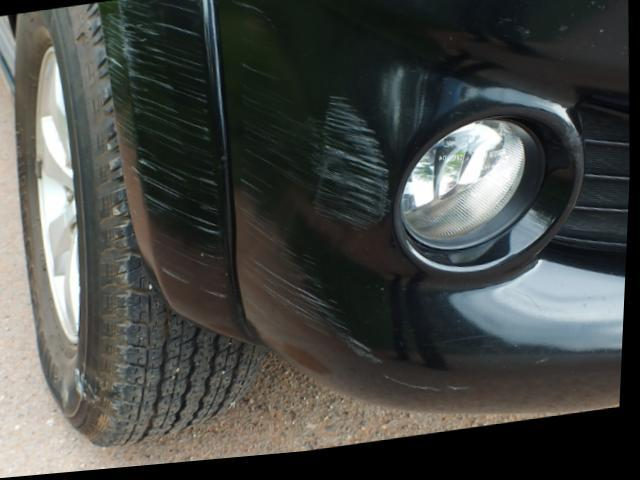scratch: (227, 0, 395, 377), (96, 0, 228, 299)
